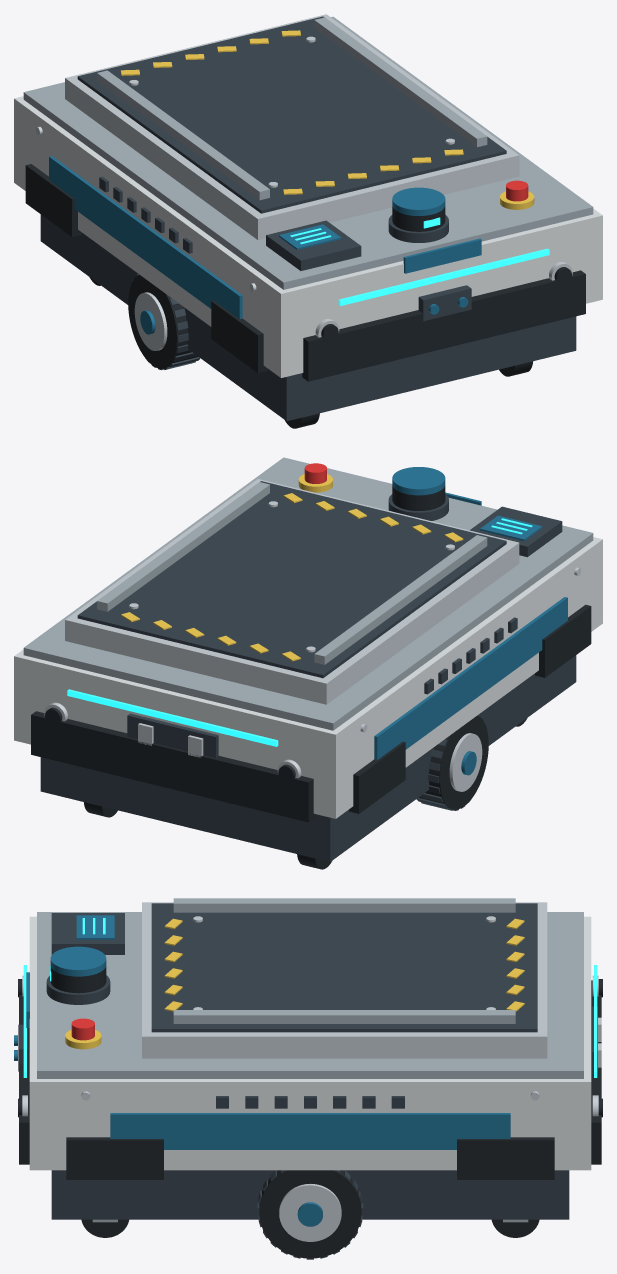
File: AGV_Robot.glb
3 views of the same model, one above another, from view 1: azimuth 30°, elevation 25°; view 2: azimuth 150°, elevation 25°; view 3: azimuth 270°, elevation 25° (orthographic). The views are drawn at different scales.
Visible parts, largest first — view 1: Non slip load surface, Main body shell, Upper shoulder, Lower protective chassis, Lift plate, Impact bumper, Blue side band, Load guide rail (×2), Side bumper (×2), Drive tire, Top control console, Status light bar (+7 smaller); view 2: Non slip load surface, Main body shell, Upper shoulder, Lower protective chassis, Lift plate, Impact bumper, Blue side band, Load guide rail (×2), Side bumper (×2), Drive tire, Rear charging recess, Status light bar (+6 smaller); view 3: Non slip load surface, Main body shell, Upper shoulder, Lower protective chassis, Lift plate, Blue side band, Load guide rail (×2), Side bumper (×2), Drive tire, Drive hub, Impact bumper (×2), Top control console (+7 smaller).
Boxes of the visible parts, x1,y1,x2,y2 form: Non slip load surface: (77,16,506,213); Main body shell: (14,96,602,377); Upper shoulder: (23,16,593,289); Lower protective chassis: (40,214,576,421); Lift plate: (65,14,519,239); Impact bumper: (302,270,585,381); Blue side band: (49,156,242,319); Load guide rail (×2): (97,17,487,200); Side bumper (×2): (25,164,267,372); Drive tire: (128,274,198,368); Top control console: (266,220,361,270); Status light bar: (338,248,549,305); Non slip load surface: (77,481,506,678); Main body shell: (14,537,602,818); Upper shoulder: (23,457,593,730); Lower protective chassis: (40,655,576,861); Lift plate: (65,479,519,704); Impact bumper: (31,711,314,822); Blue side band: (374,597,567,759); Load guide rail (×2): (97,482,487,664); Side bumper (×2): (349,604,591,813); Drive tire: (418,715,488,809); Rear charging recess: (127,713,218,757); Status light bar: (67,689,278,746); Non slip load surface: (151,903,537,1032); Main body shell: (29,916,591,1170); Upper shoulder: (37,912,583,1078); Lower protective chassis: (51,1170,569,1219); Lift plate: (142,902,547,1058); Blue side band: (110,1113,510,1149); Load guide rail (×2): (173,898,515,1023); Side bumper (×2): (66,1137,554,1179); Drive tire: (259,1170,361,1258); Drive hub: (279,1183,341,1241); Impact bumper (×2): (19,980,601,1164); Top control console: (51,913,124,954).
Size of the model in its own units: 0.829 by 0.504 by 1.21.
